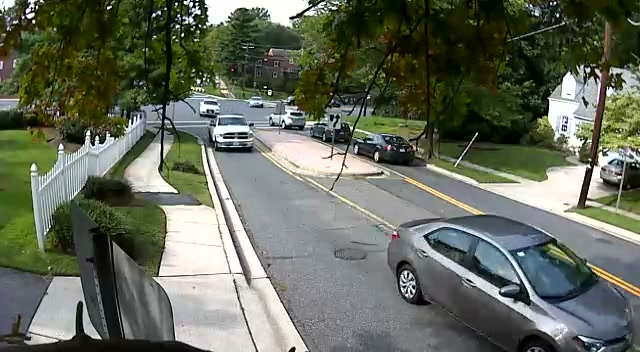car: (386, 214, 639, 352), (350, 133, 415, 165), (208, 114, 254, 152), (600, 152, 640, 190), (309, 115, 352, 144), (199, 100, 220, 118), (248, 96, 263, 108)
truck: (209, 114, 254, 152), (281, 110, 306, 130)
